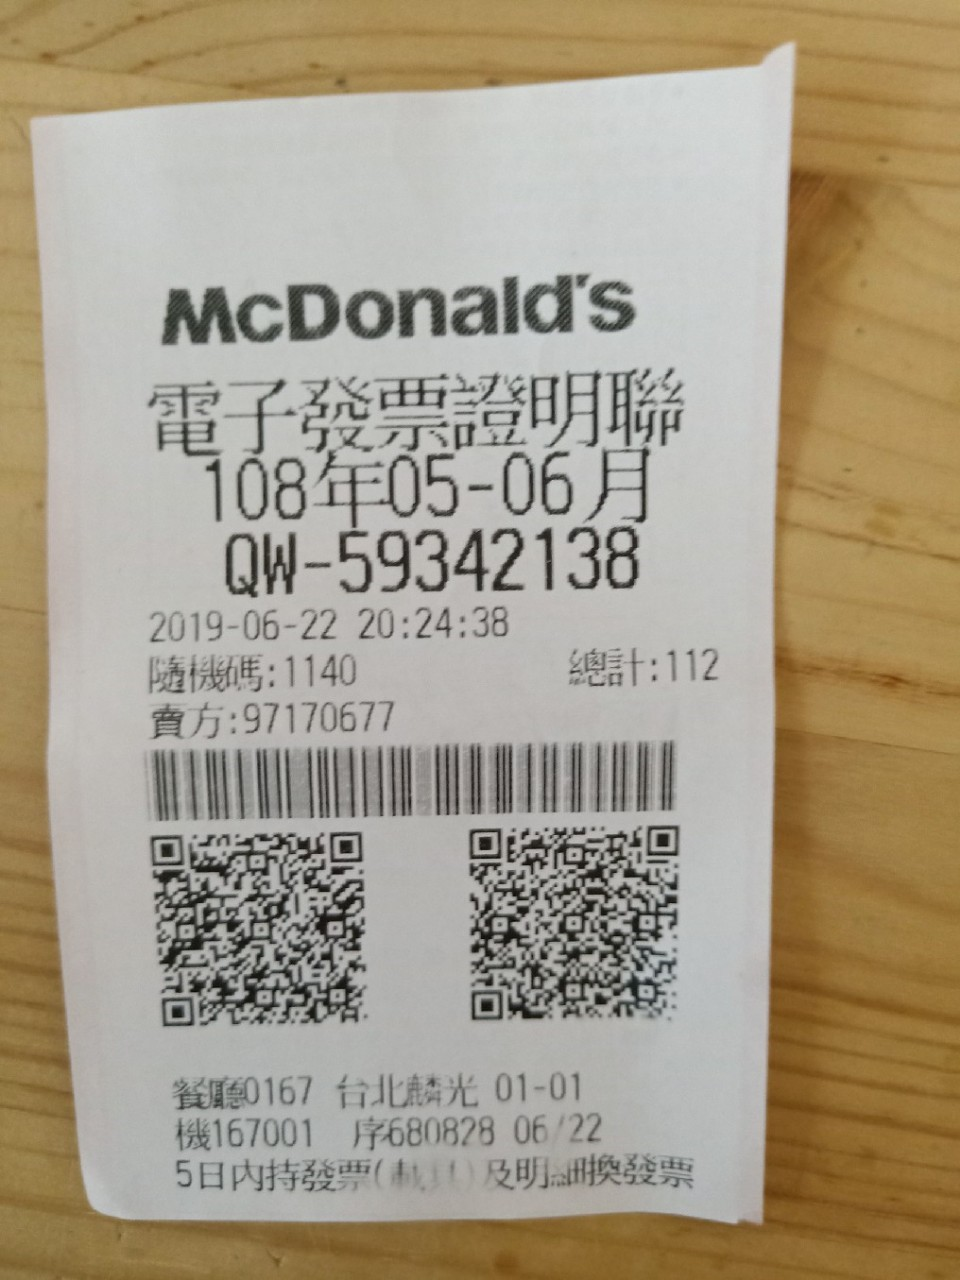Date_New: (205, 447, 652, 523)
Number_New: (336, 523, 642, 593)
